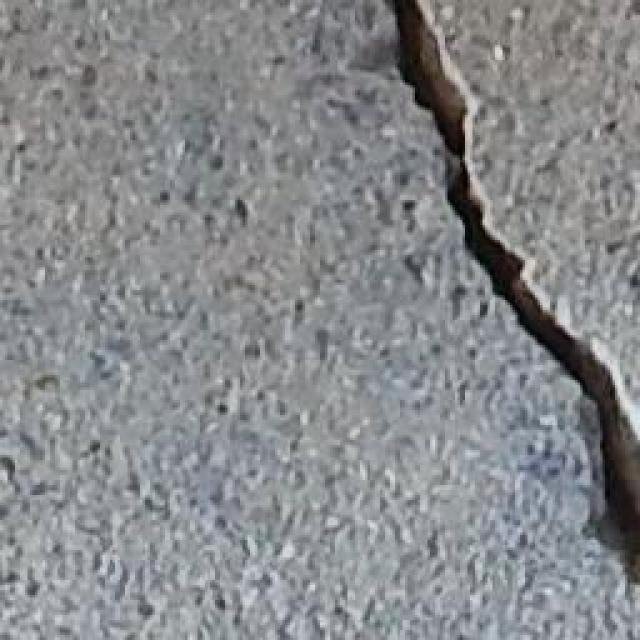concrete-crack: (380, 0, 640, 605)
